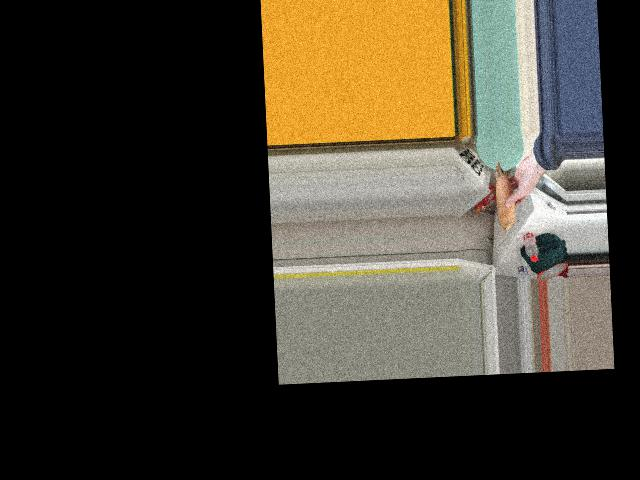sweet_potato: (493, 165, 518, 226)
